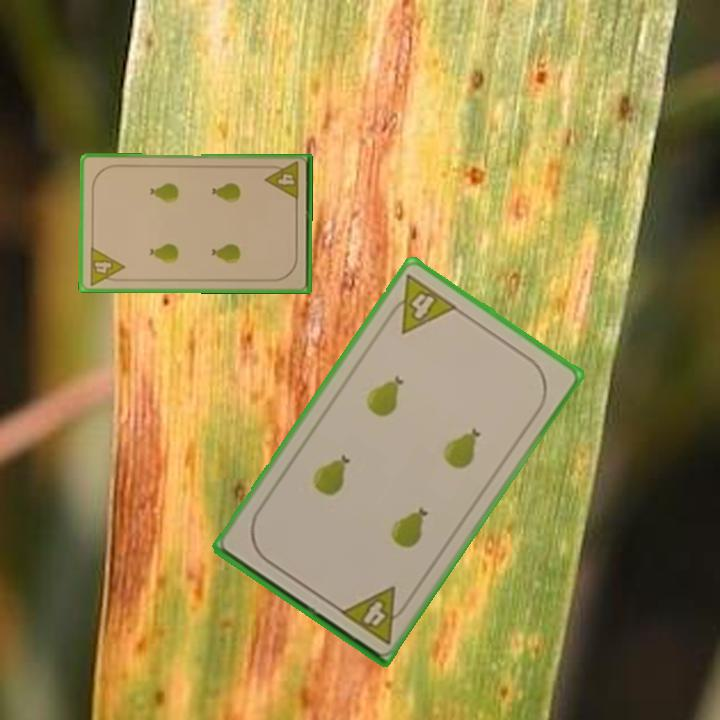4p: (381, 270, 460, 337), (336, 582, 414, 648), (86, 243, 127, 288), (262, 159, 302, 203)
